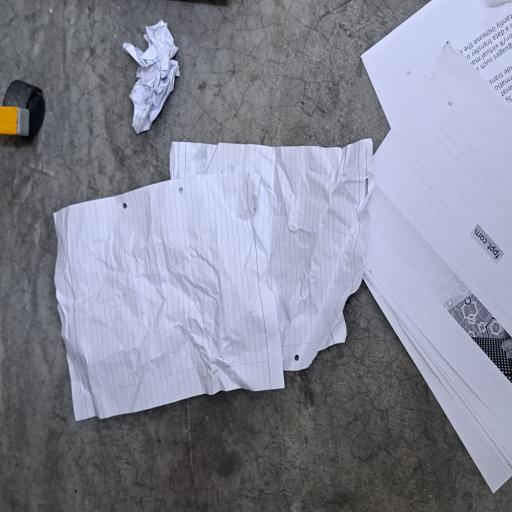paper: (66, 74, 281, 501), (284, 163, 367, 244)
